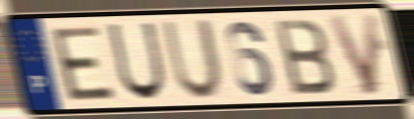6: (225, 18, 275, 98)
B: (271, 16, 338, 97)
E: (47, 24, 119, 103)
U: (160, 17, 226, 102), (105, 20, 169, 103)
V: (324, 10, 381, 99)
